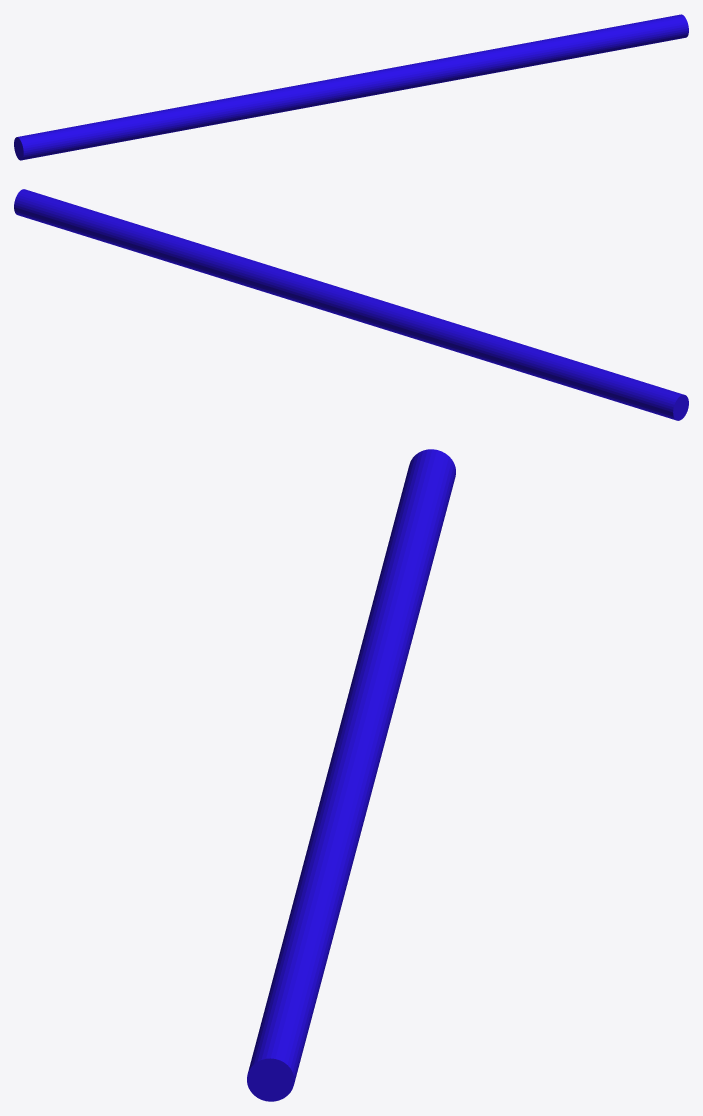
3 renders of one model, top to bottom at view 1: azimuth 30°, elevation 25°; view 2: azimuth 150°, elevation 25°; view 3: azimuth 270°, elevation 25°, orthographic. The views are drawn at different scales.
Parts seen in each view (by area): view 1: Циліндр.005; view 2: Циліндр.005; view 3: Циліндр.005.
Boxes of the visible parts, left/top/right/bottom form: Циліндр.005: left=14, top=14, right=688, bottom=160; Циліндр.005: left=14, top=189, right=688, bottom=420; Циліндр.005: left=247, top=449, right=455, bottom=1101.
Size of the model in its own units: 2.92 by 0.0964 by 0.4226.
